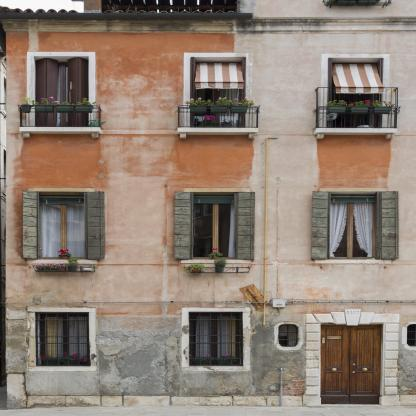Balcony: (314, 87, 402, 133), (17, 104, 103, 132), (177, 105, 261, 132)
Blind: (376, 192, 399, 260), (84, 192, 105, 260), (174, 191, 195, 259), (235, 192, 256, 260), (311, 192, 331, 260), (22, 191, 41, 259)
Building Outline: (0, 0, 416, 410)
Door: (321, 325, 383, 404), (328, 57, 383, 128), (34, 56, 89, 127), (191, 57, 246, 127)
Facade: (6, 20, 416, 410)
Floor: (5, 135, 415, 285)
Floor Slab: (5, 128, 415, 134), (5, 279, 415, 285)
Ground Floor: (5, 284, 415, 406)
Top Floor: (5, 25, 415, 134)
Window: (328, 192, 381, 260), (35, 192, 88, 260), (190, 192, 243, 260), (35, 312, 90, 367), (188, 312, 243, 366), (278, 324, 298, 347), (407, 324, 416, 347)
